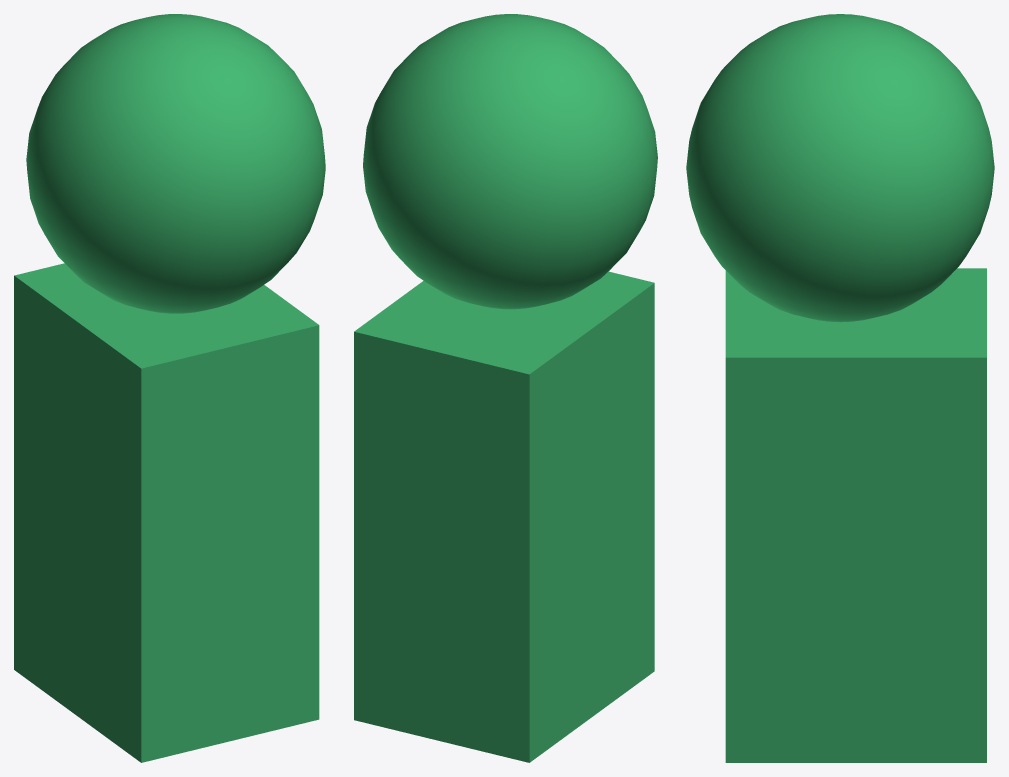
Rendered from hito4.FBX.
3 renders of one model, left to right at view 1: azimuth 30°, elevation 25°; view 2: azimuth 150°, elevation 25°; view 3: azimuth 270°, elevation 25°, orthographic. The views are drawn at different scales.
Parts seen in each view (by area): view 1: Box001, Sphere001; view 2: Box001, Sphere001; view 3: Box001, Sphere001.
Part boxes in pixels (x1,y1,x2,y2): Box001: (14,263,319,762); Sphere001: (26,14,325,313); Box001: (354,271,654,762); Sphere001: (363,14,657,309); Box001: (725,268,986,762); Sphere001: (686,14,994,322).
Bounding box in the file's own units: 16.03 × 16.03 × 39.59.
1 material, 1 textured.
